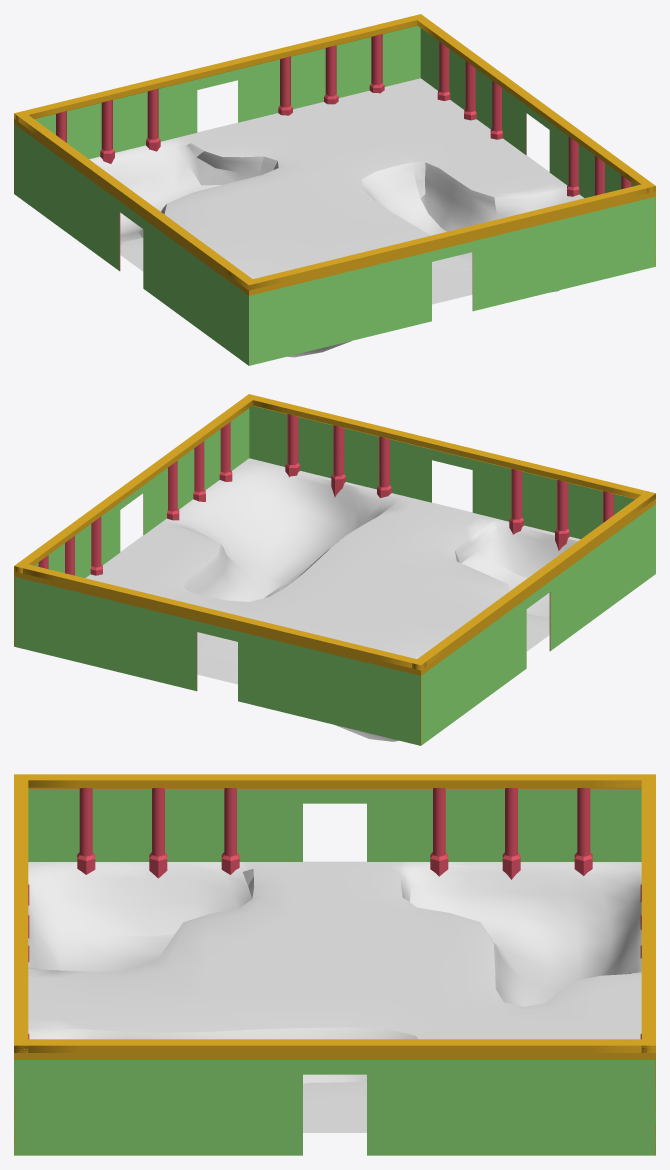
File: WaterRoom (updated).fbx
The picture shows the model from 3 angles, top to bottom: view 1: azimuth 30°, elevation 25°; view 2: azimuth 150°, elevation 25°; view 3: azimuth 270°, elevation 25°; orthographic projection. The views are drawn at different scales.
Parts seen in each view (by area): view 1: SquareRoom, WallSouth, WallNorth, WallWest, WallEast; view 2: SquareRoom, WallNorth, WallSouth, WallWest, WallEast; view 3: SquareRoom, WallEast, WallWest, WallNorth, WallSouth.
Part boxes in pixels (box(x1,y1,x2,y2)): SquareRoom: box(89, 78, 584, 357); WallSouth: box(244, 184, 655, 365); WallNorth: box(14, 15, 420, 193); WallWest: box(14, 111, 257, 365); WallEast: box(412, 14, 655, 266); SquareRoom: box(85, 458, 580, 741); WallNorth: box(14, 562, 426, 745); WallSouth: box(244, 394, 654, 550); WallWest: box(412, 491, 655, 745); WallEast: box(14, 394, 257, 646); SquareRoom: box(28, 861, 641, 1132); WallEast: box(14, 1039, 655, 1155); WallWest: box(14, 774, 655, 879); WallNorth: box(640, 774, 655, 1155); WallSouth: box(14, 774, 29, 1155).
Bounding box in the file's own units: 4000 × 1061 × 4000.
